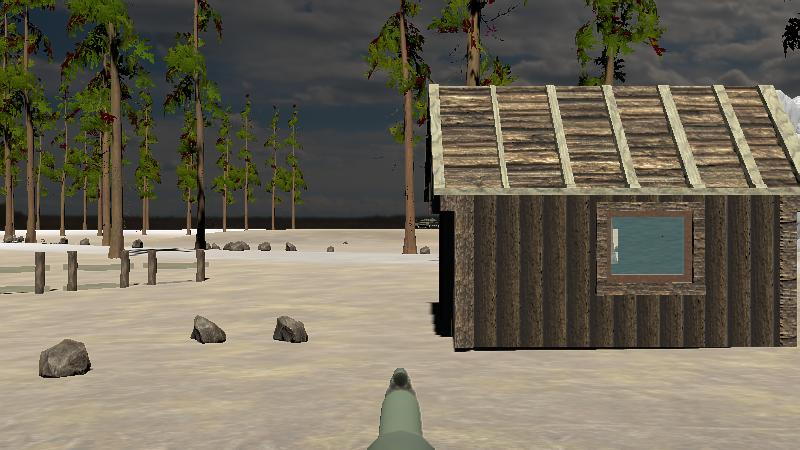House: (427, 83, 800, 349)
